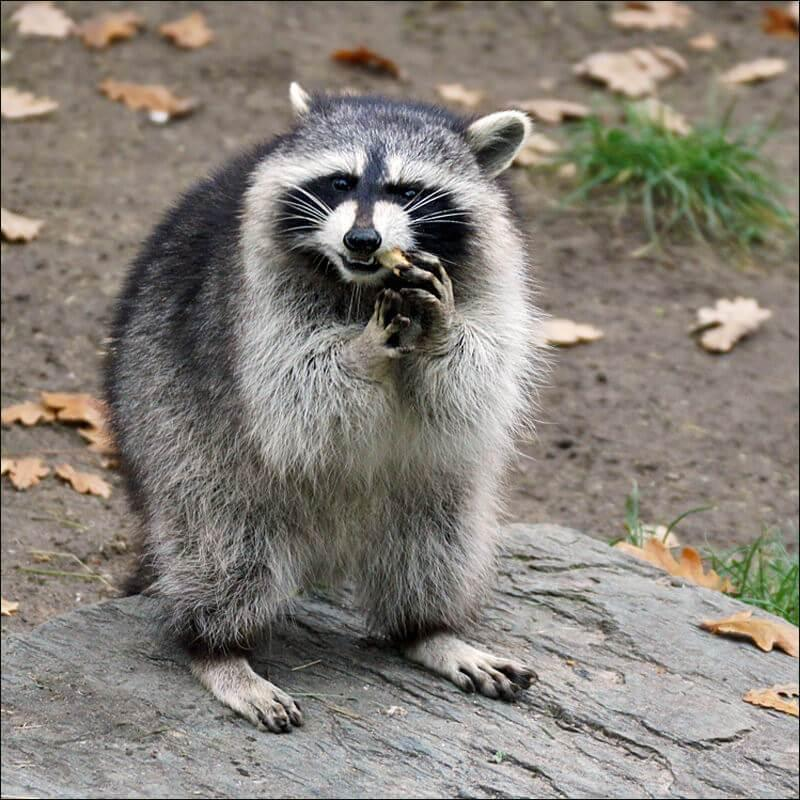raccoon: (96, 79, 541, 736)
